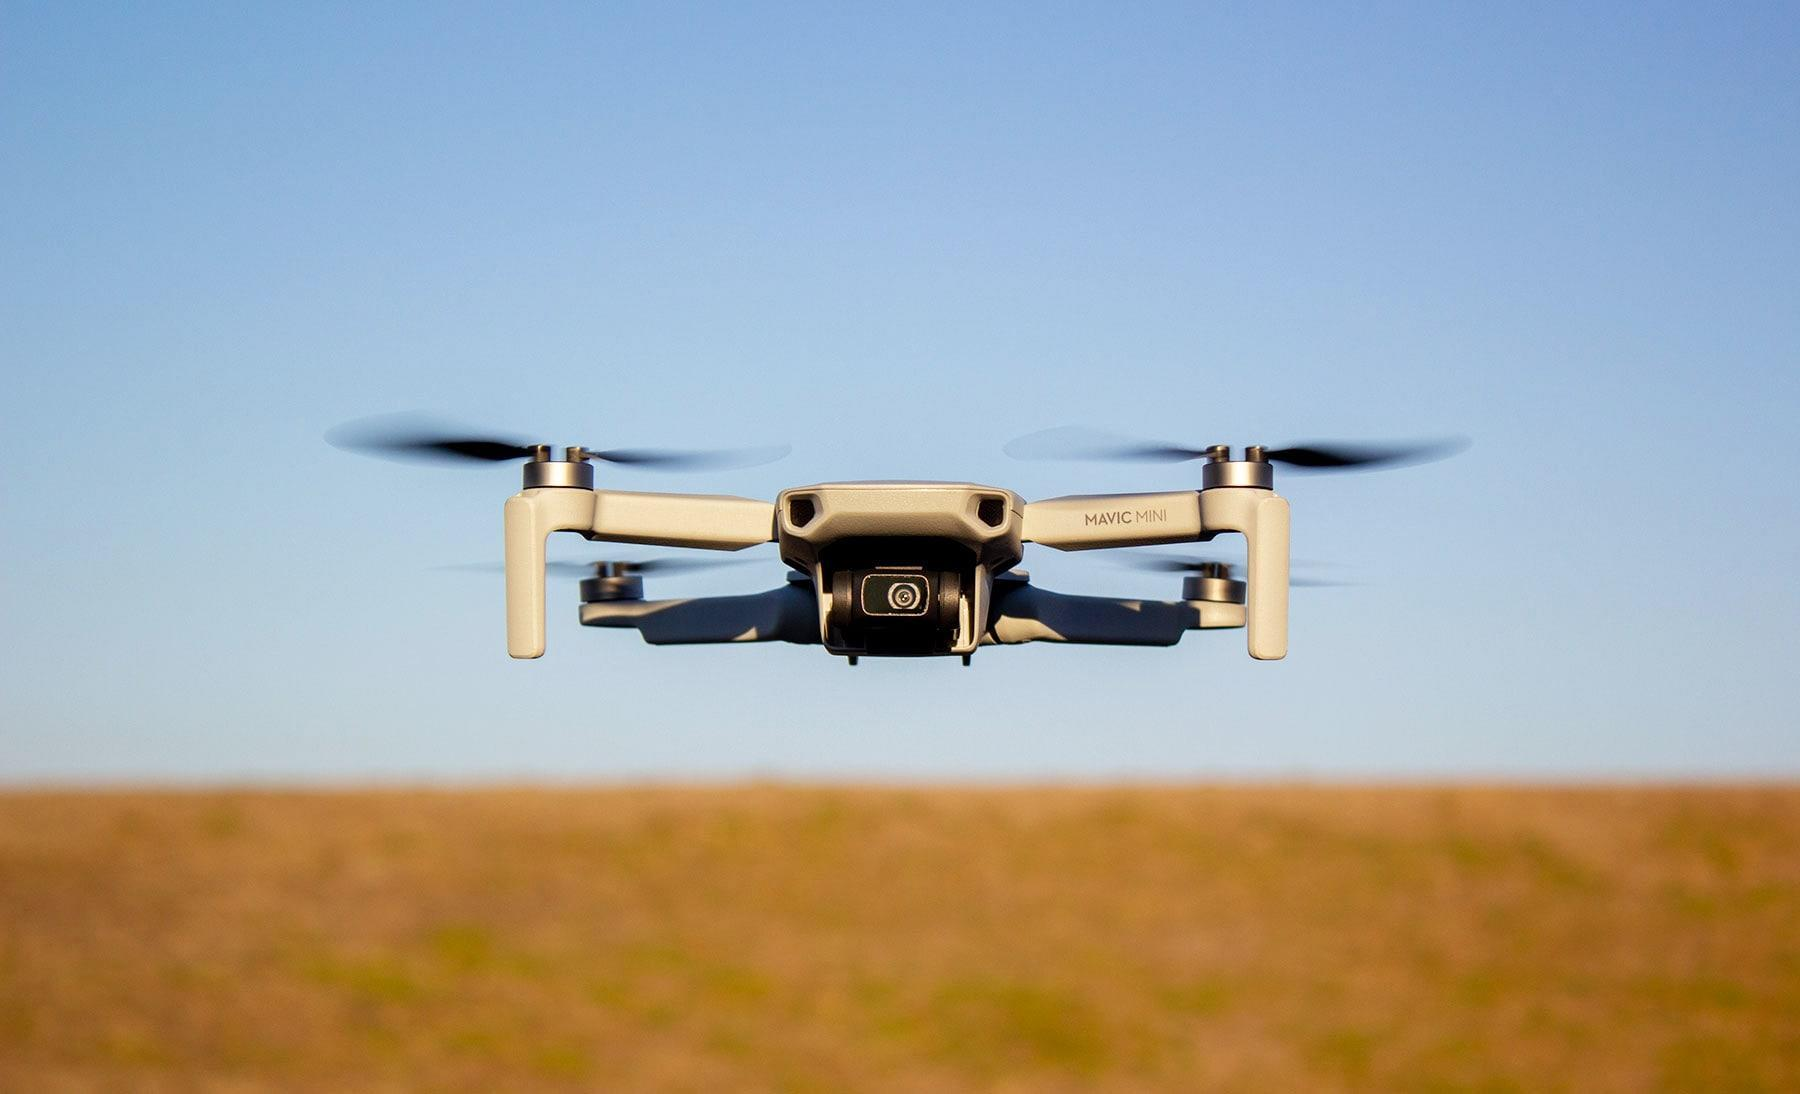drone: (332, 410, 1464, 663)
